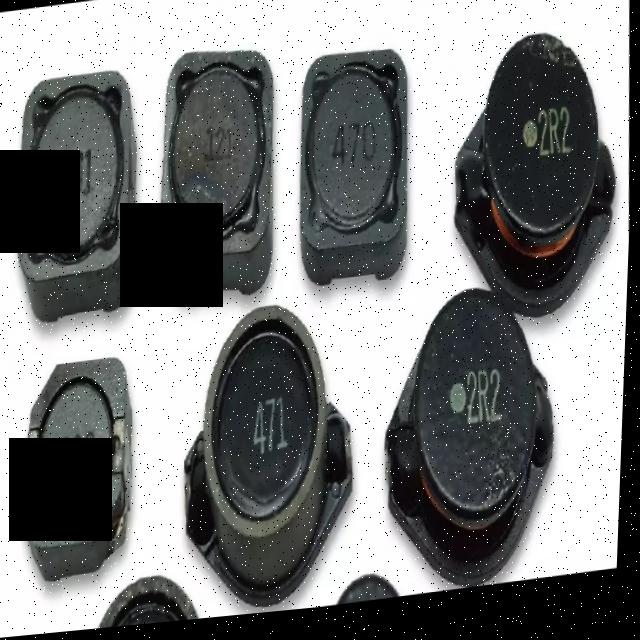inductor F1: (181, 285, 356, 567), (445, 28, 623, 298), (385, 291, 553, 571), (5, 52, 150, 327), (154, 33, 283, 296), (291, 39, 413, 287), (19, 354, 141, 571)
